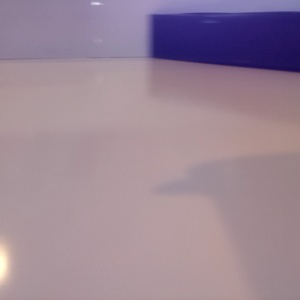zone: (152, 11, 300, 72)
